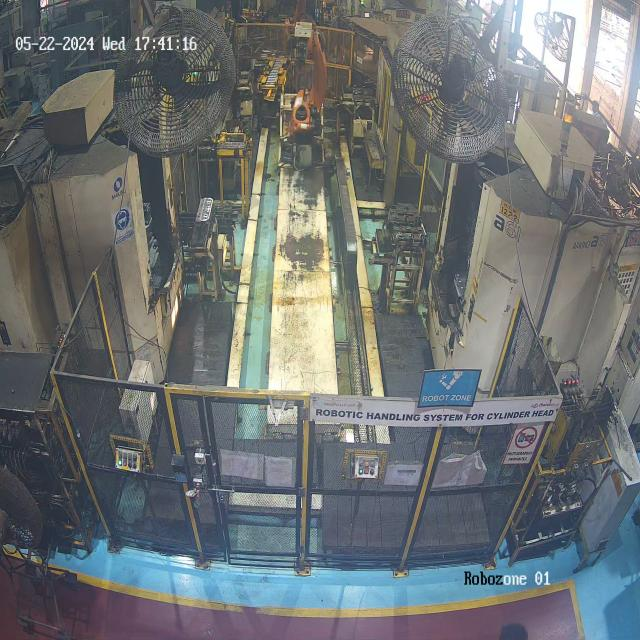person: (493, 611, 533, 640)
